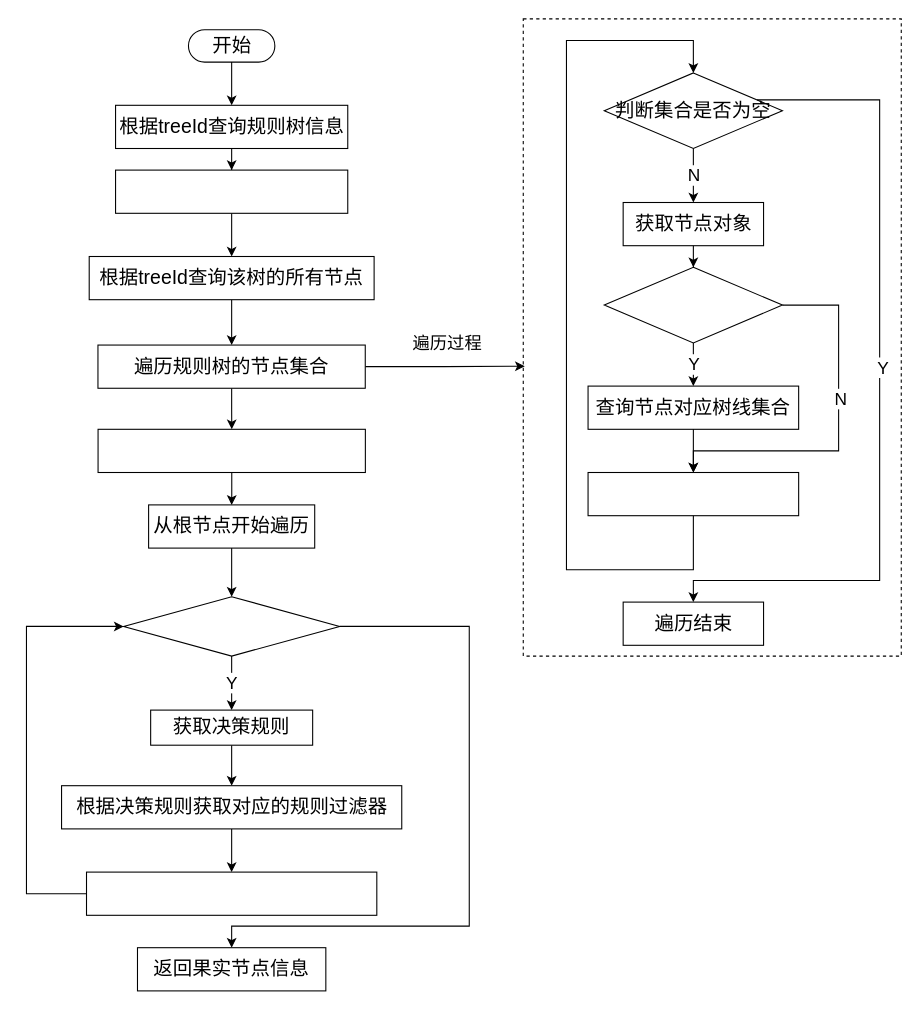
The diagram is 920 pixels wide and 1010 high, and some of its shapes have lost their labels. Each missing label, with the centre of its shape:
"判断是否为茎" goes at point 231,626.
"判断节点是否为茎" goes at point 692,304.
"封装规则树根 节 点信息" goes at point 231,191.
"封装规则树节点信息" goes at point 693,493.
"根据决策物料决策出下一个节点" goes at point 231,893.
"组装规则树" goes at point 231,450.
